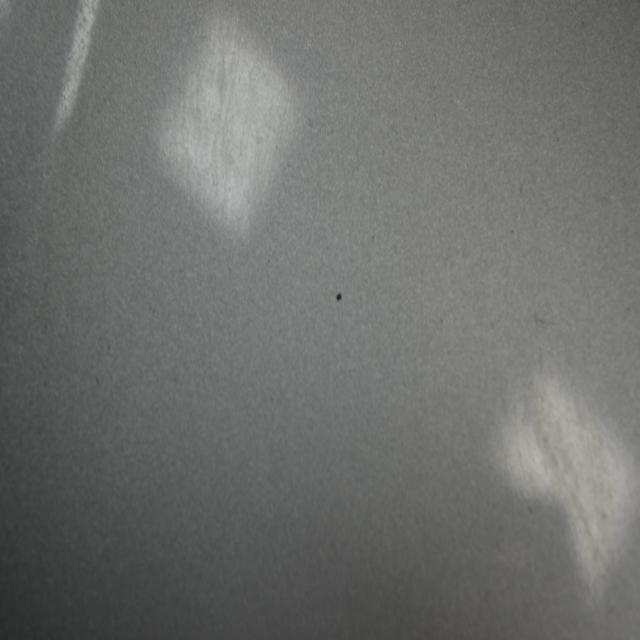dirt: (334, 286, 344, 304)
